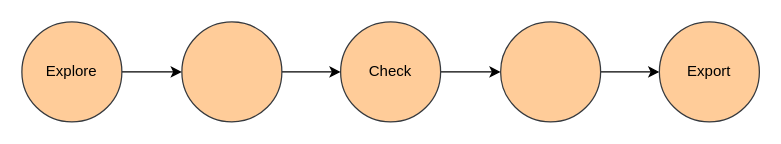
Image size: 781x144. Some labels were removed from this diagram. Each missing label, with the box of its shape:
Clean: (499, 21, 601, 122)
Import: (181, 21, 282, 122)
